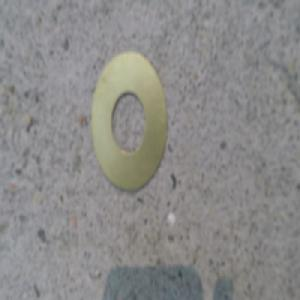Washer: (92, 50, 172, 190)
